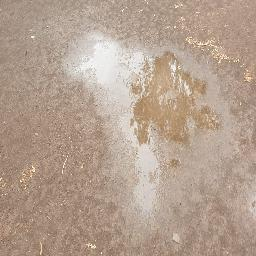water accumulation: (77, 35, 223, 212)
